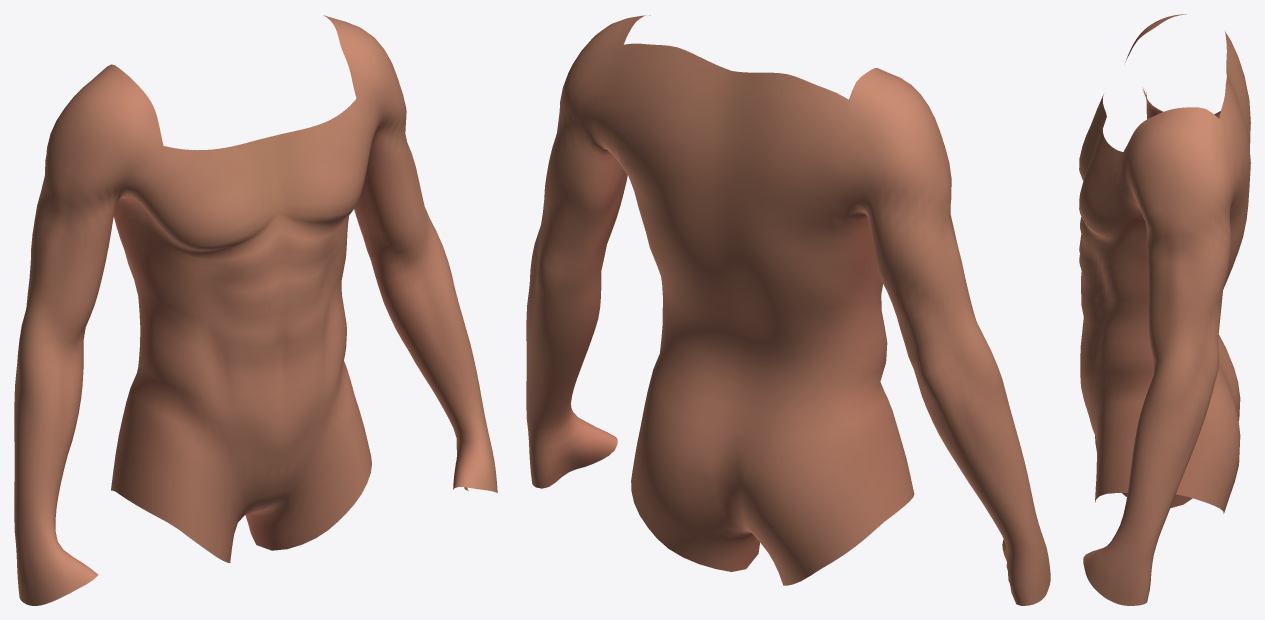
Rendered from Human_Body.glb.
3 views of the same model, side by side, from view 1: azimuth 30°, elevation 25°; view 2: azimuth 150°, elevation 25°; view 3: azimuth 270°, elevation 25° (orthographic). The views are drawn at different scales.
Visible parts, largest first — view 1: #R_TB_00_Low.004; view 2: #R_TB_00_Low.004; view 3: #R_TB_00_Low.004.
Part boxes in pixels (bbox=[...]): #R_TB_00_Low.004: bbox=[14, 15, 497, 605]; #R_TB_00_Low.004: bbox=[526, 15, 1050, 605]; #R_TB_00_Low.004: bbox=[1079, 14, 1250, 605].
Size of the model in its own units: 75.59 by 76.79 by 26.11.
Materials: 1 (1 with a texture image).
